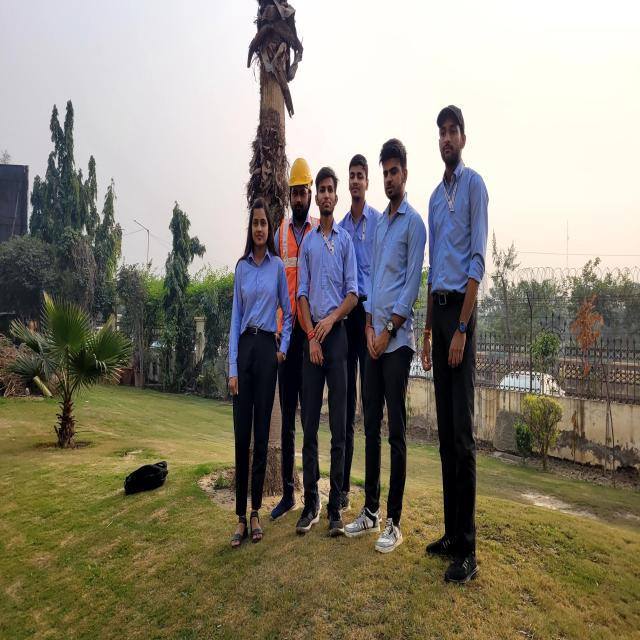safe: (270, 158, 324, 534)
unsafe: (422, 104, 488, 581), (364, 136, 425, 553), (229, 193, 292, 549), (299, 165, 355, 538), (340, 153, 380, 522)
